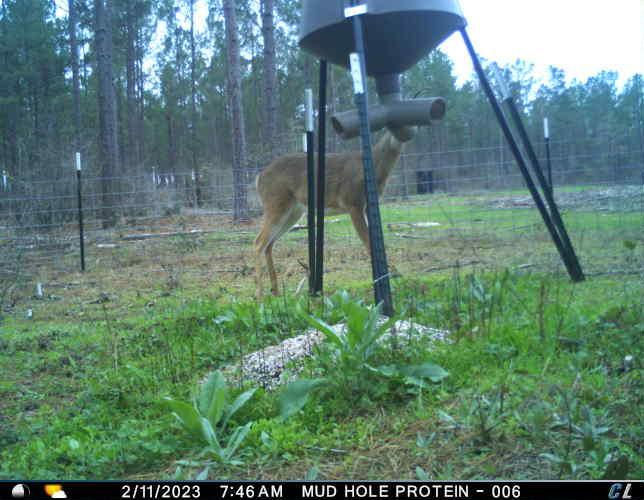Deer: (246, 116, 417, 304)
